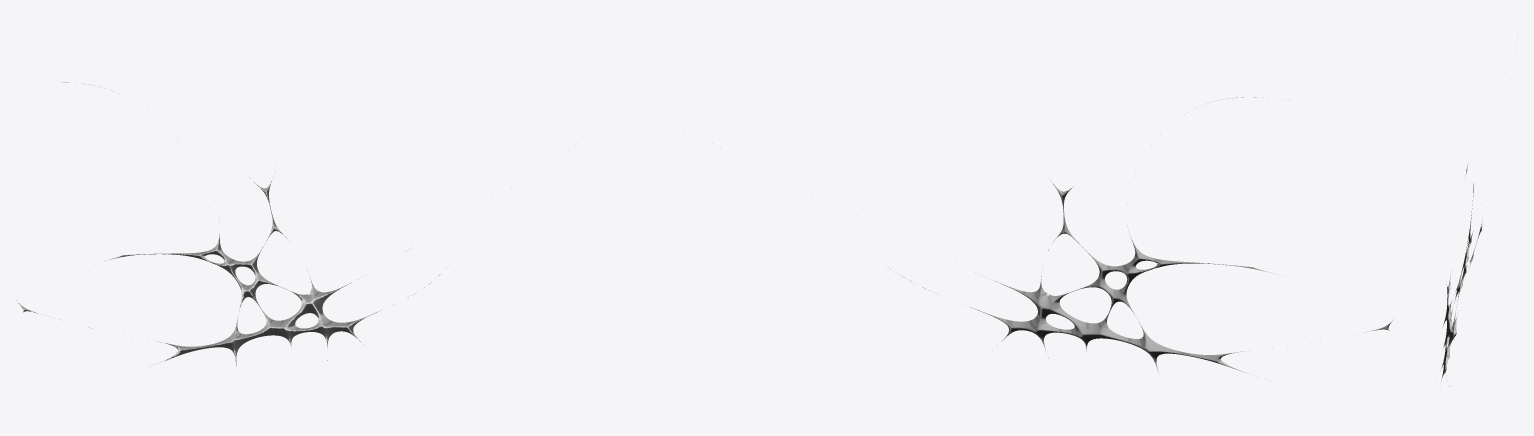
Rendered from sigil.glb.
3 renders of one model, left to right at view 1: azimuth 30°, elevation 25°; view 2: azimuth 150°, elevation 25°; view 3: azimuth 270°, elevation 25°, orthographic. The views are drawn at different scales.
Visible parts, largest first — view 1: BézierCurve.003; view 2: BézierCurve.003; view 3: BézierCurve.003.
Part boxes in pixels (x1,y1,x2,y2): BézierCurve.003: (16,82,446,367); BézierCurve.003: (895,97,1392,373); BézierCurve.003: (1440,163,1482,386).
Bounding box in the file's own units: 79.66 × 45.64 × 13.09.
1 material, 1 textured.
